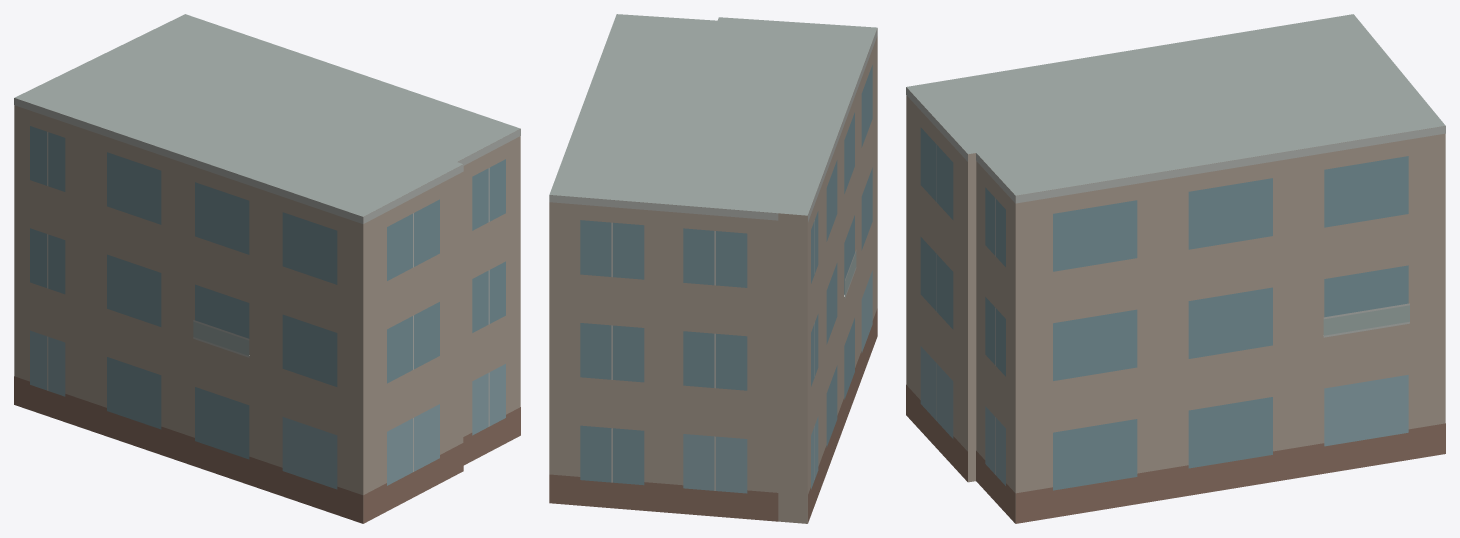
File: survey-upis-32704736.glb
3 renders of one model, left to right at view 1: azimuth 30°, elevation 25°; view 2: azimuth 150°, elevation 25°; view 3: azimuth 270°, elevation 25°, orthographic. The views are drawn at different scales.
Visible parts, largest first — view 1: survey-upis-32704736.tmp; view 2: survey-upis-32704736.tmp; view 3: survey-upis-32704736.tmp.
Boxes of the visible parts, <box> form: survey-upis-32704736.tmp: <box>14,14,520,523</box>; survey-upis-32704736.tmp: <box>549,14,877,523</box>; survey-upis-32704736.tmp: <box>906,14,1445,523</box>.
Size of the model in its own units: 12.12 by 10.2 by 15.21.
